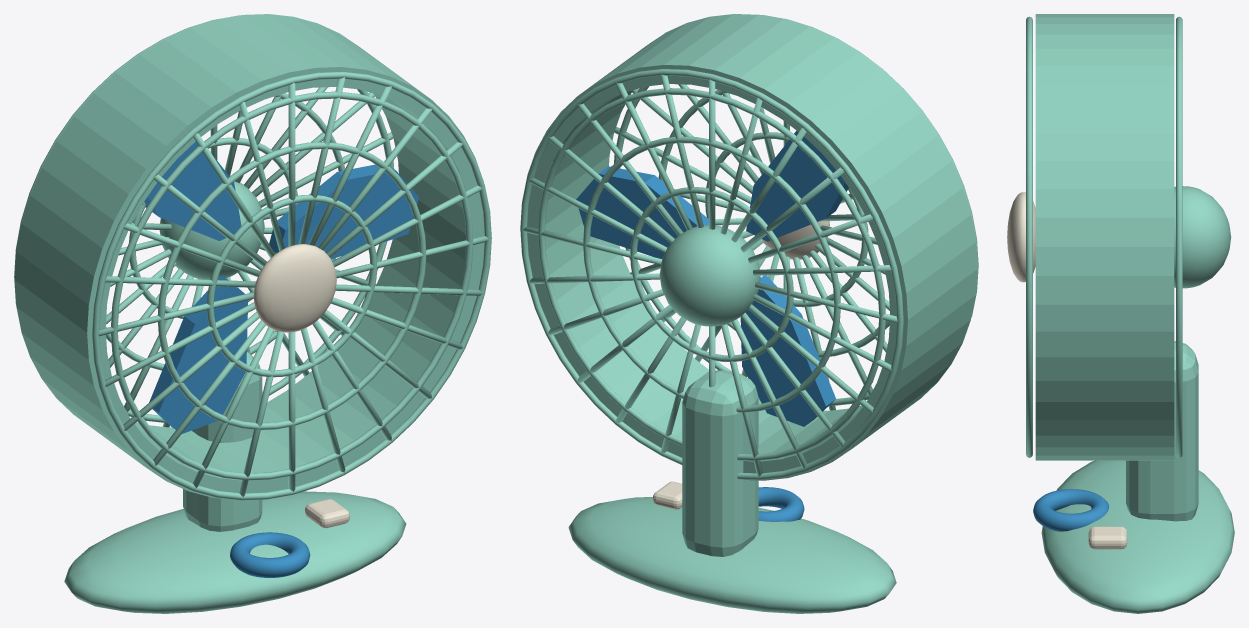
The model's file is CordlessFan.fbx.
The picture shows the model from 3 angles, left to right: view 1: azimuth 30°, elevation 25°; view 2: azimuth 150°, elevation 25°; view 3: azimuth 270°, elevation 25°; orthographic projection. The views are drawn at different scales.
Visible parts, largest first — view 1: CordlessFan_Mesh; view 2: CordlessFan_Mesh; view 3: CordlessFan_Mesh.
Boxes of the visible parts, bbox=[...] form: CordlessFan_Mesh: bbox=[14, 14, 491, 613]; CordlessFan_Mesh: bbox=[520, 14, 978, 613]; CordlessFan_Mesh: bbox=[1007, 14, 1234, 613].
Bounding box in the file's own units: 0.37 × 0.48 × 0.1885.
